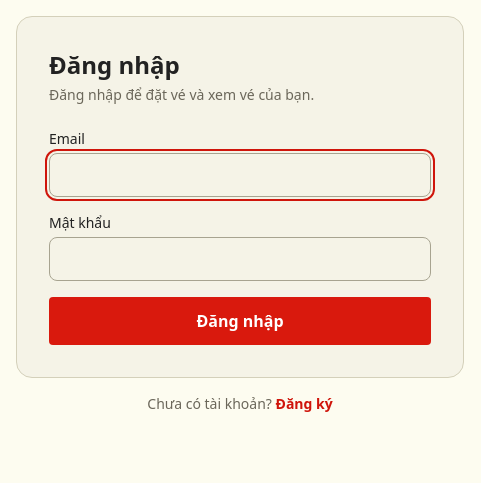
LoginPage › sai mật khẩu (INVALID_CREDENTIALS): hiện lỗi từ server và xóa ô mật khẩu
In the field labelled "Email": (240, 175) [49,153,431,197], type "a@b.co"
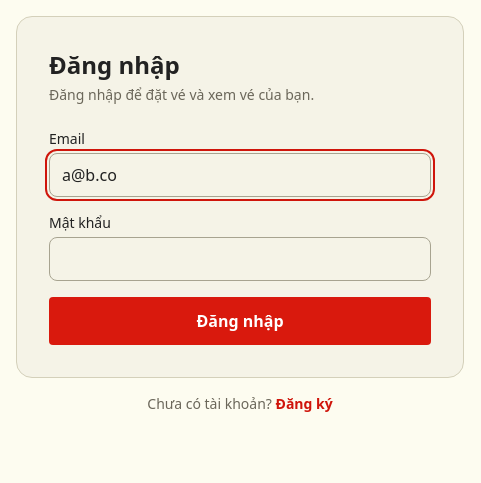
In the password field labelled "Mật khẩu": (240, 259) [49,237,431,281], type "mat-khau-123"
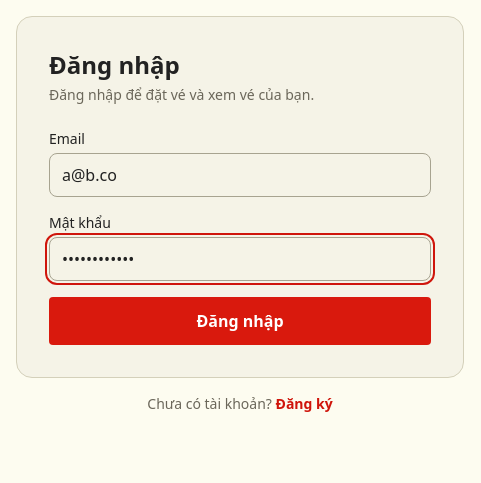
Click the button "Đăng nhập": (240, 321) [49,297,431,345]
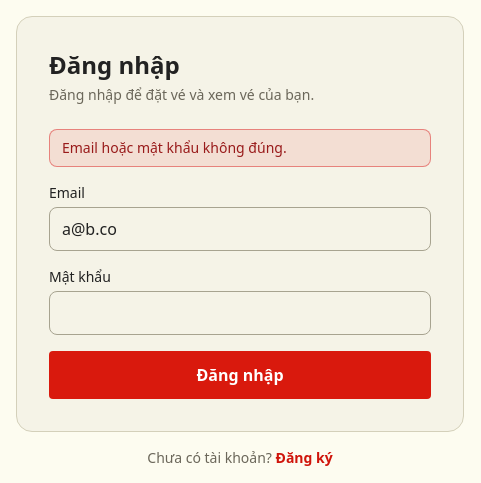
Result: the message reads "Email hoặc mật khẩu không đúng." at [62,138,287,157]
Result: the password field labelled "Mật khẩu" is empty at [49,291,431,335]
